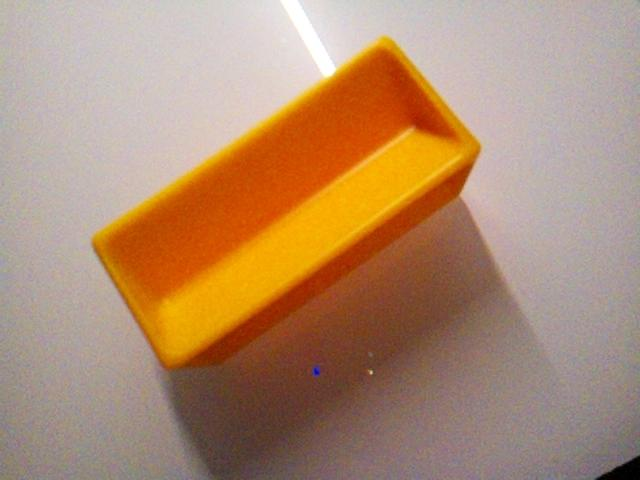yellow: (90, 34, 483, 371)
